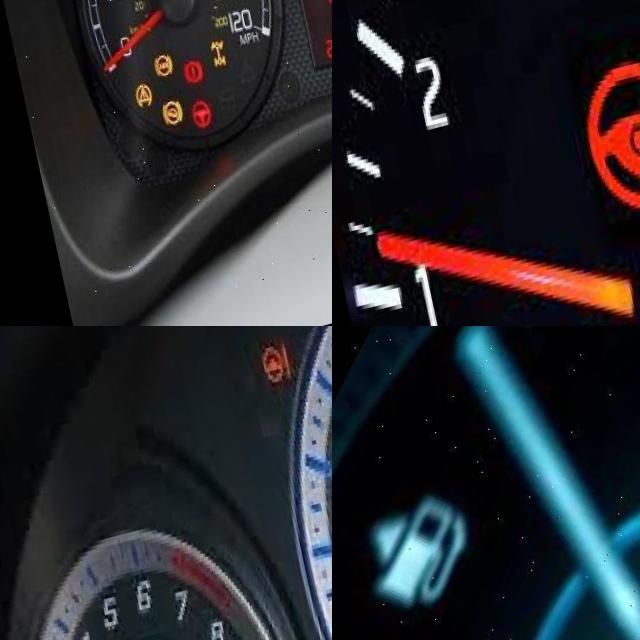Electronic Power Steering: (557, 61, 640, 244), (249, 360, 284, 407)
